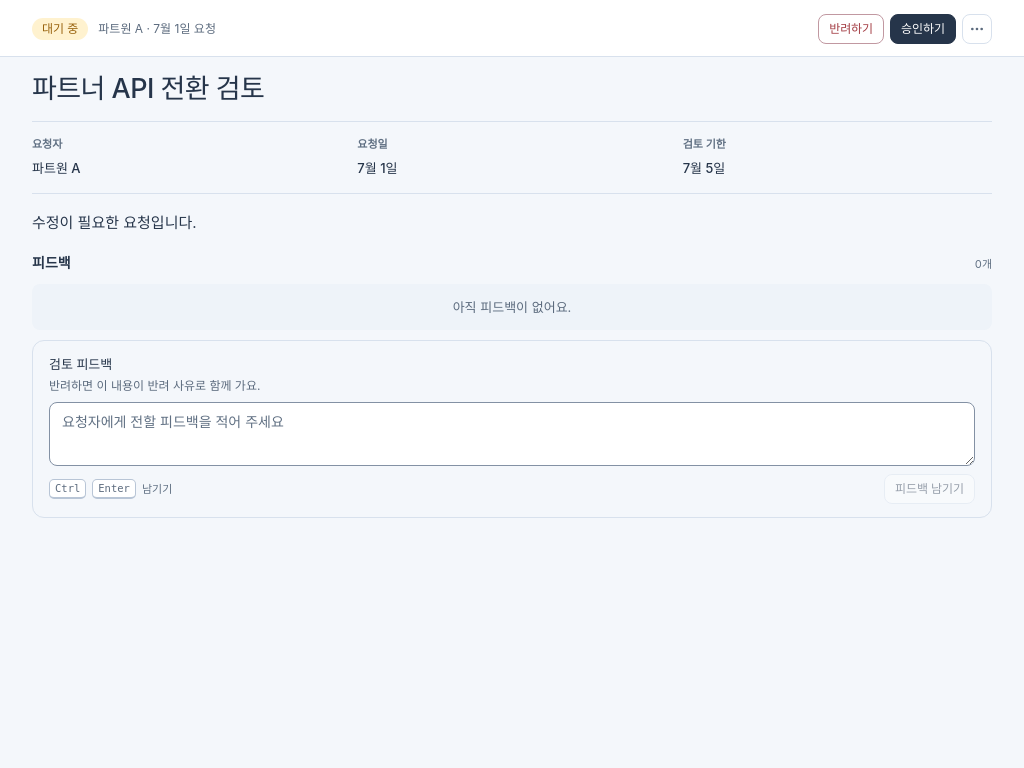
it: ReviewRequestItem leader decisions › confirms approval with a result-oriented dialog
Step 1. Click the button "승인하기" → coordinates (923, 29), box [890,14,956,44]
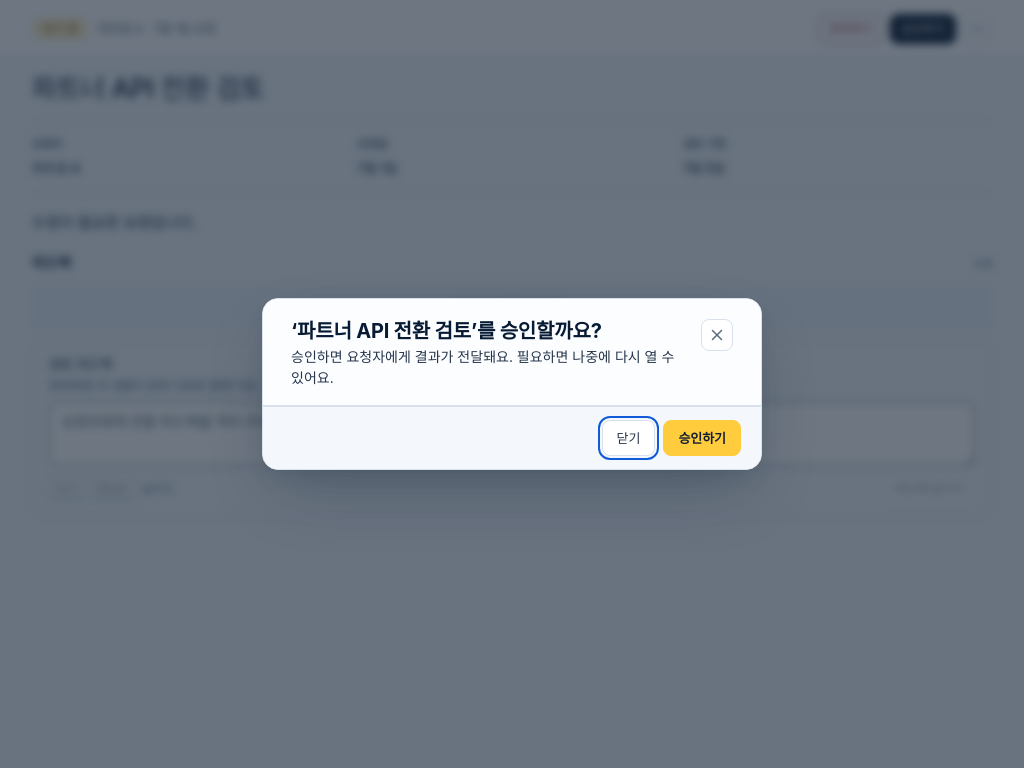
expect the dialog "‘파트너 API 전환 검토’를 승인할까요?" shows "승인하면 요청자에게 결과가 전달돼요. 필요하면 나중에 다시 열 수 있어요.": met, box [291,348,674,386]
Step 2. Click the button "승인하기" → coordinates (702, 438), box [663,420,741,456]
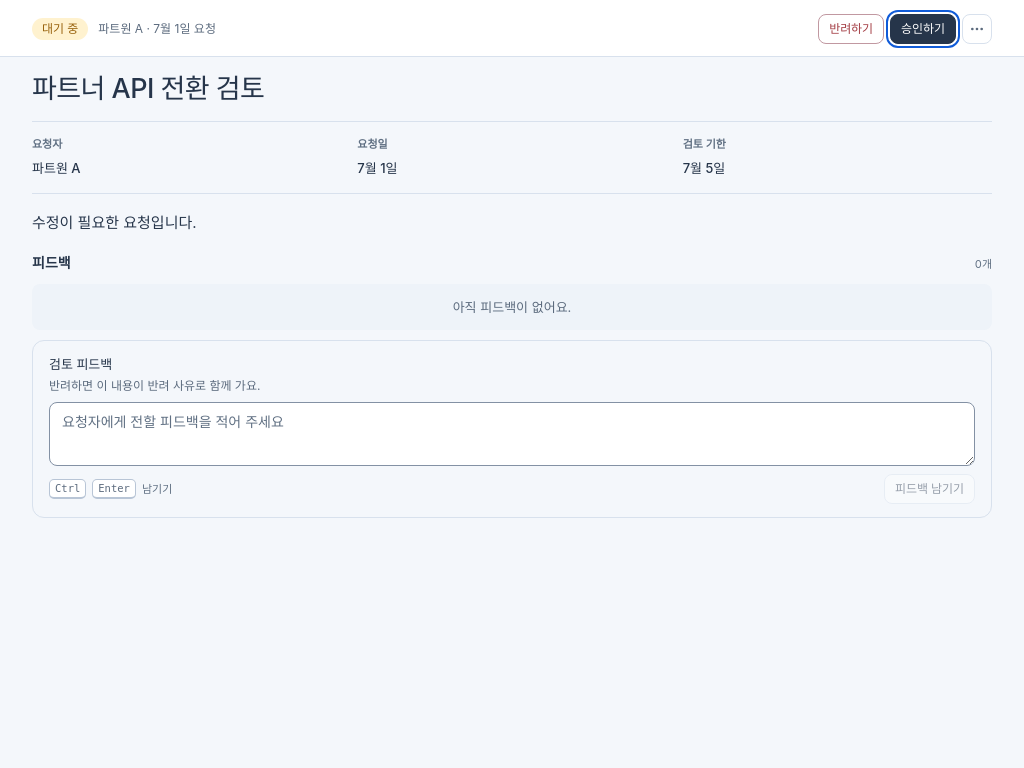
expect the dialog is gone: met
